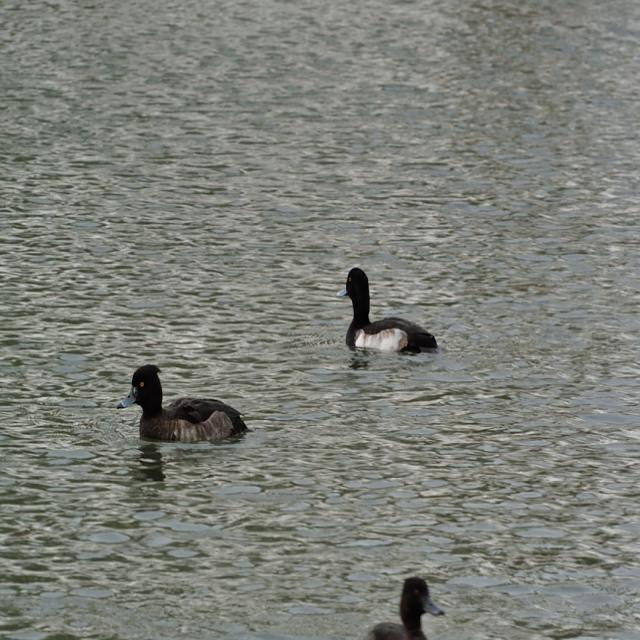bird: (117, 362, 255, 442), (337, 267, 448, 356), (360, 576, 445, 640)
